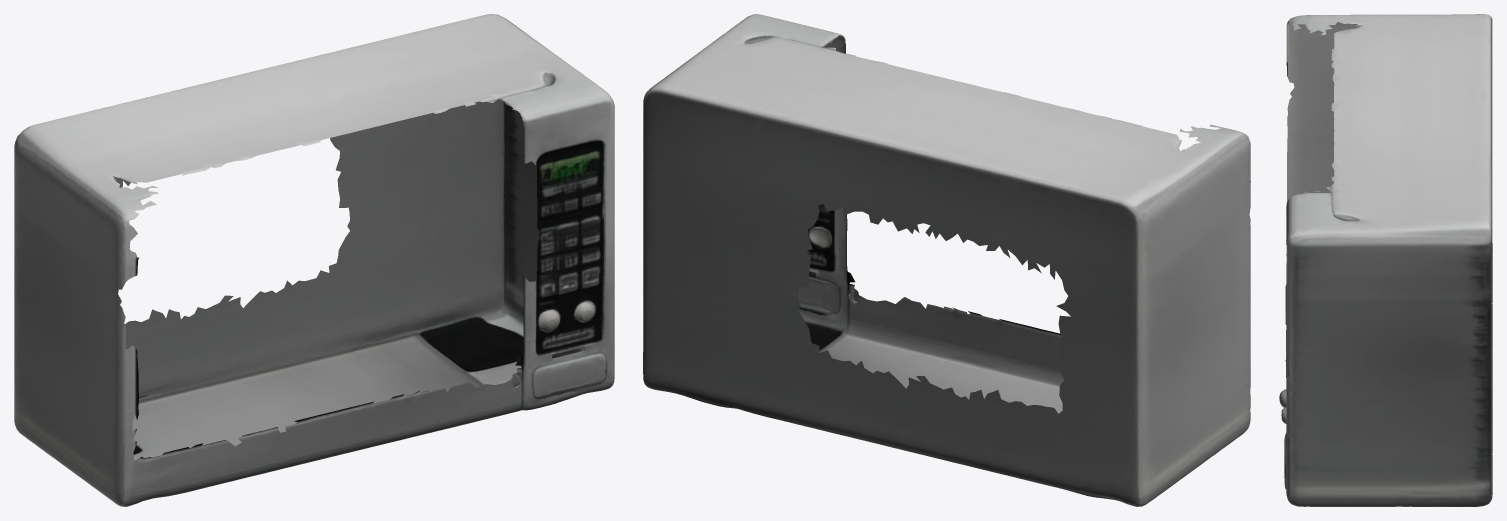
3 views of the same model, side by side, from view 1: azimuth 30°, elevation 25°; view 2: azimuth 150°, elevation 25°; view 3: azimuth 270°, elevation 25° (orthographic). The views are drawn at different scales.
Parts seen in each view (by area): view 1: world; view 2: world; view 3: world.
Part boxes in pixels (box(x1,y1,x2,y2)): world: box(14, 14, 614, 506); world: box(643, 14, 1250, 506); world: box(1279, 14, 1492, 506).
Size of the model in its own units: 0.5 by 0.2939 by 0.2011.
Materials: 1 (1 with a texture image).
